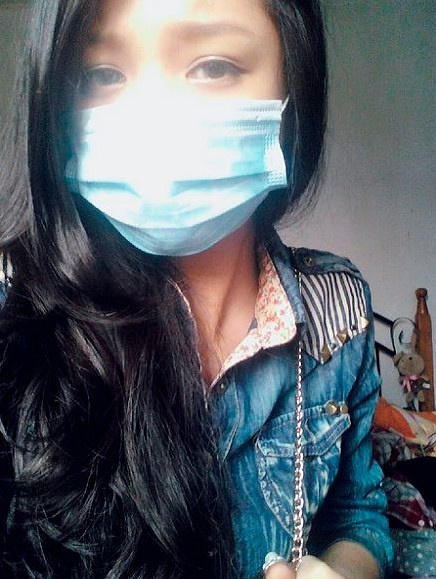face_mask: (73, 0, 277, 261)
